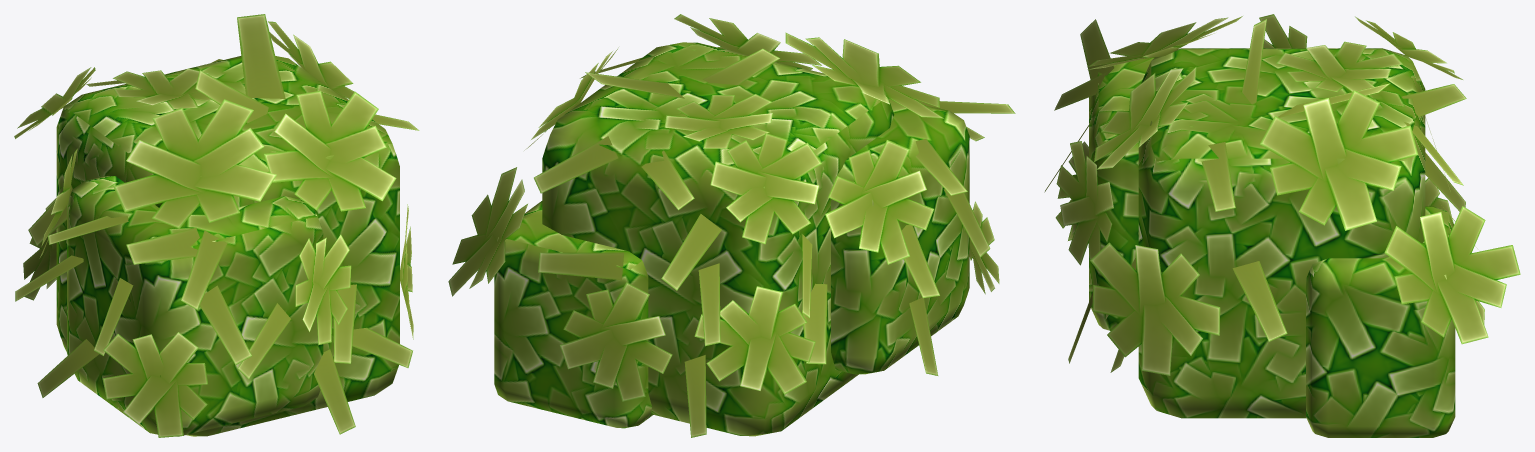
Rendered from SM_Bush_01_A.fbx.
The picture shows the model from 3 angles, left to right: view 1: azimuth 30°, elevation 25°; view 2: azimuth 150°, elevation 25°; view 3: azimuth 270°, elevation 25°; orthographic projection. The views are drawn at different scales.
Visible parts, largest first — view 1: polySurface626; view 2: polySurface626; view 3: polySurface626.
Boxes of the visible parts, bbox=[...] form: polySurface626: bbox=[14, 14, 419, 437]; polySurface626: bbox=[448, 14, 1015, 437]; polySurface626: bbox=[1044, 14, 1520, 437].
Bounding box in the file's own units: 54.51 × 42.56 × 54.39.
